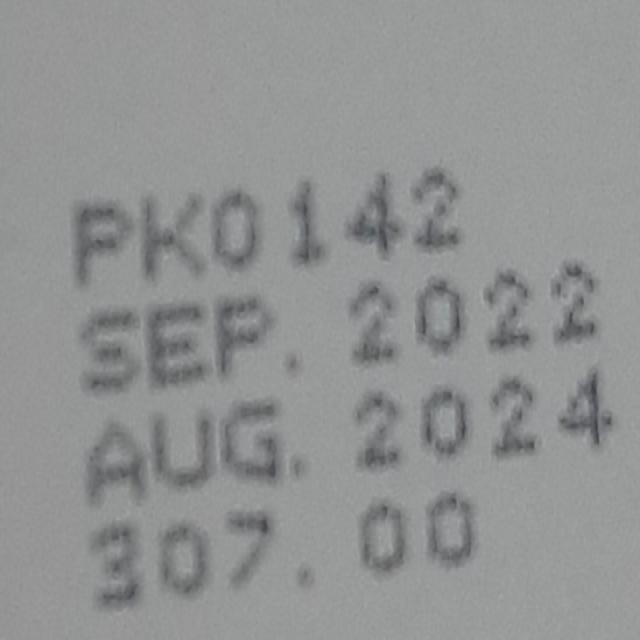sentence: (86, 367, 614, 503), (80, 259, 599, 393), (74, 166, 460, 286), (90, 492, 476, 606)
